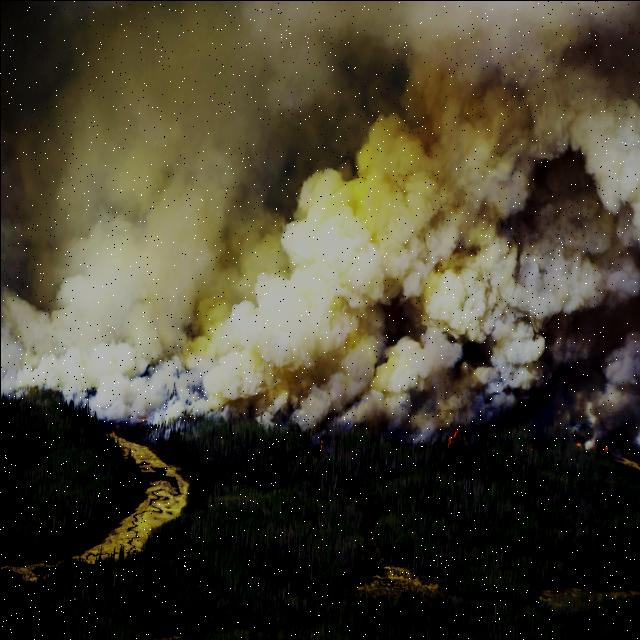asap: (2, 1, 638, 441)
